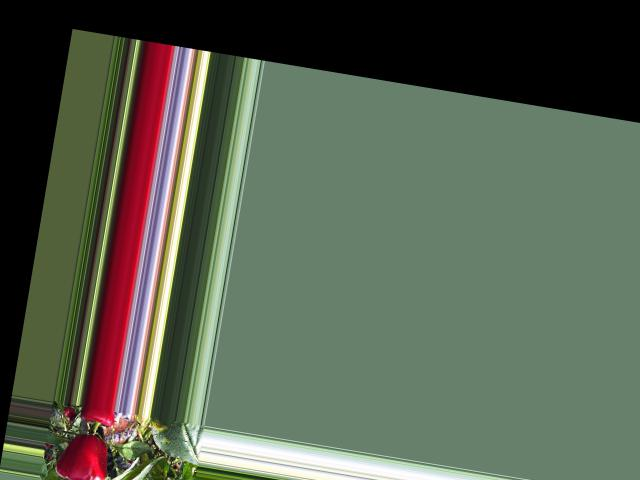bell_pepper: (76, 404, 119, 431)
